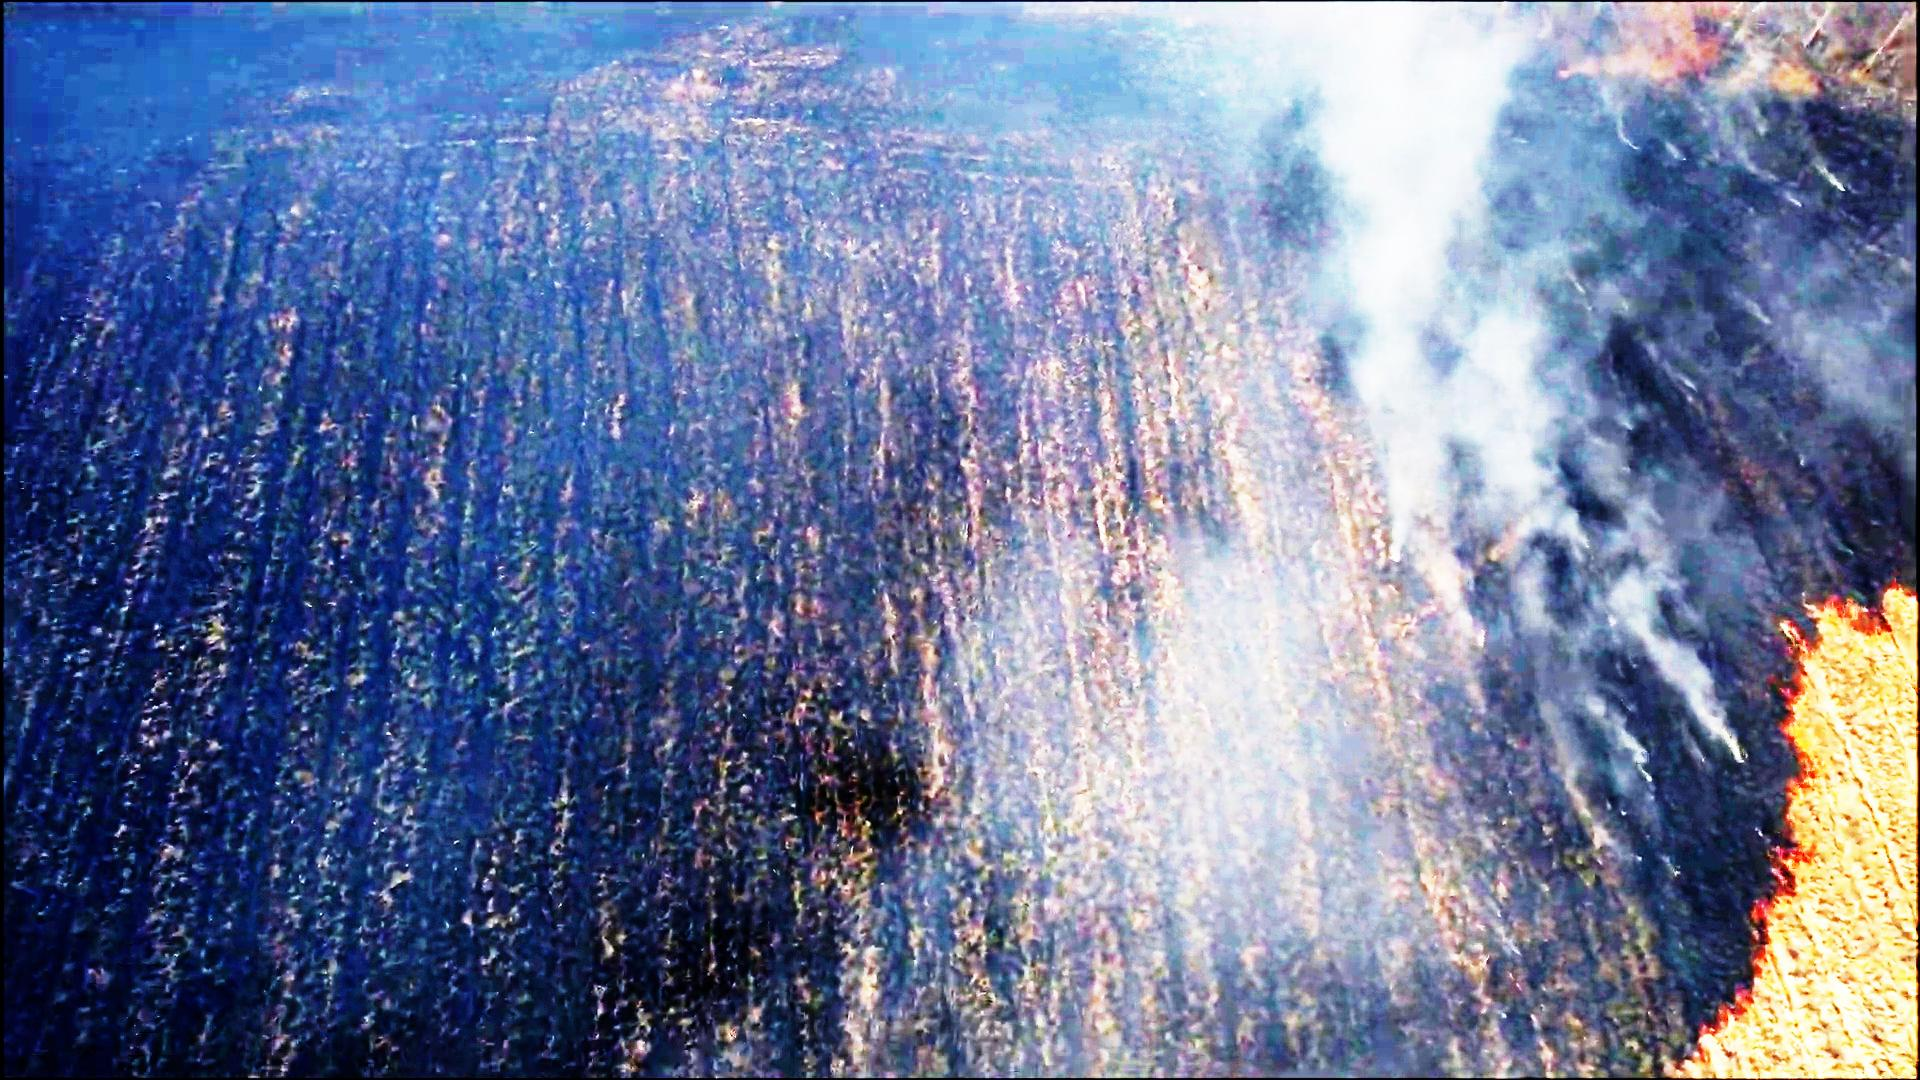smoke: (1275, 0, 1775, 790)
